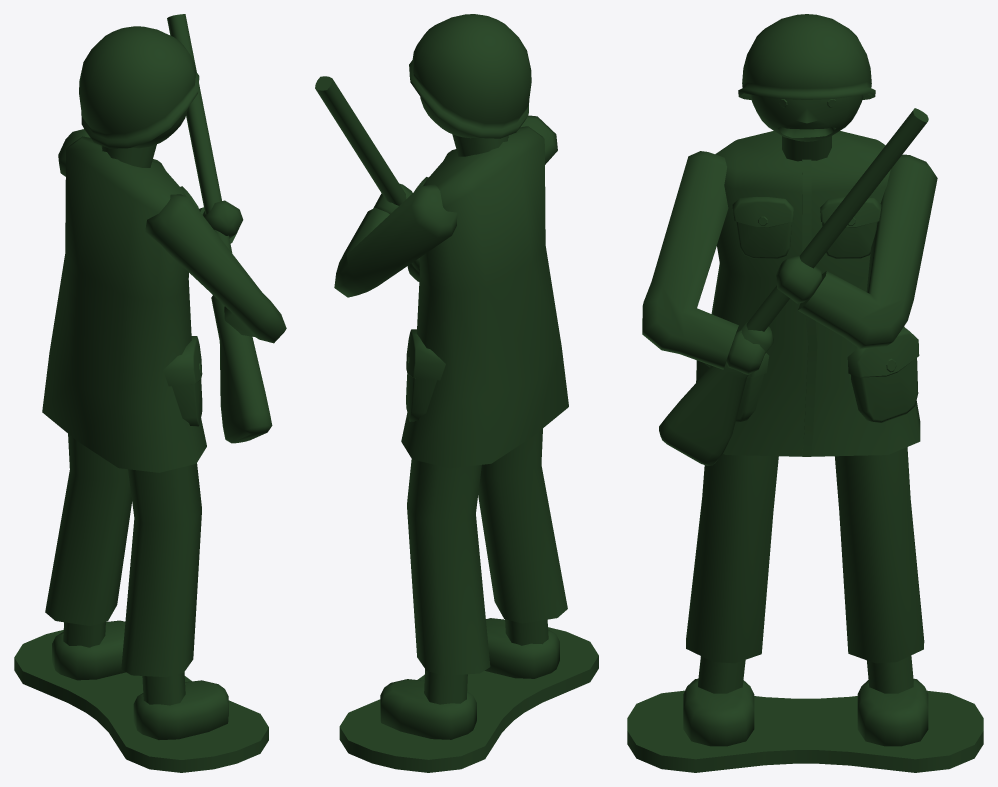
Rendered from ArmyMan.fbx.
The picture shows the model from 3 angles, left to right: view 1: azimuth 30°, elevation 25°; view 2: azimuth 150°, elevation 25°; view 3: azimuth 270°, elevation 25°; orthographic projection. The views are drawn at different scales.
Visible parts, largest first — view 1: Cube, Cube.001, Sphere.001, Cube.002, Cube.013, Cube.007, Cube.012, Cube.005, Cube.009, Cube.006, Cube.010, Cube.003 (+4 smaller); view 2: Cube, Cube.002, Sphere.001, Cube.001, Cube.013, Cube.008, Cube.006, Cube.009, Cube.005, Cube.010, Cube.004, Cube.003 (+2 smaller); view 3: Cube, Cube.013, Cube.002, Cube.001, Cube.007, Cube.008, Cube.010, Sphere.001, Cube.012, Cube.009, Cube.006, Cube.005 (+7 smaller).
Boxes of the visible parts, box(x1,y1,x2,y2) form: Cube: box(42, 136, 206, 472); Cube.001: box(121, 463, 201, 677); Sphere.001: box(79, 26, 199, 148); Cube.002: box(45, 434, 131, 625); Cube.013: box(14, 630, 268, 772); Cube.007: box(145, 194, 286, 343); Cube.012: box(211, 295, 272, 443); Cube.005: box(133, 680, 228, 739); Cube.009: box(167, 14, 232, 252); Cube.006: box(52, 620, 125, 680); Cube.010: box(163, 186, 202, 426); Cube.003: box(142, 672, 185, 705); Cube: box(401, 126, 568, 468); Cube.002: box(407, 459, 490, 675); Sphere.001: box(409, 14, 531, 138); Cube.001: box(478, 428, 567, 623); Cube.013: box(339, 627, 598, 772); Cube.008: box(334, 184, 457, 297); Cube.006: box(380, 679, 476, 739); Cube.009: box(315, 76, 406, 205); Cube.005: box(485, 618, 559, 678); Cube.010: box(406, 177, 445, 421); Cube.004: box(424, 669, 467, 704); Cube.003: box(505, 619, 548, 645); Cube: box(711, 131, 920, 456); Cube.013: box(627, 690, 983, 772); Cube.002: box(835, 447, 924, 663); Cube.001: box(686, 454, 778, 663); Cube.007: box(642, 151, 738, 369); Cube.008: box(798, 154, 937, 348); Cube.010: box(696, 197, 919, 422); Sphere.001: box(738, 14, 875, 99); Cube.012: box(659, 321, 773, 465); Cube.009: box(746, 108, 928, 331); Cube.006: box(857, 678, 928, 746); Cube.005: box(683, 678, 754, 746).
Bounding box in the file's own units: 24.09 × 90.46 × 40.75.
